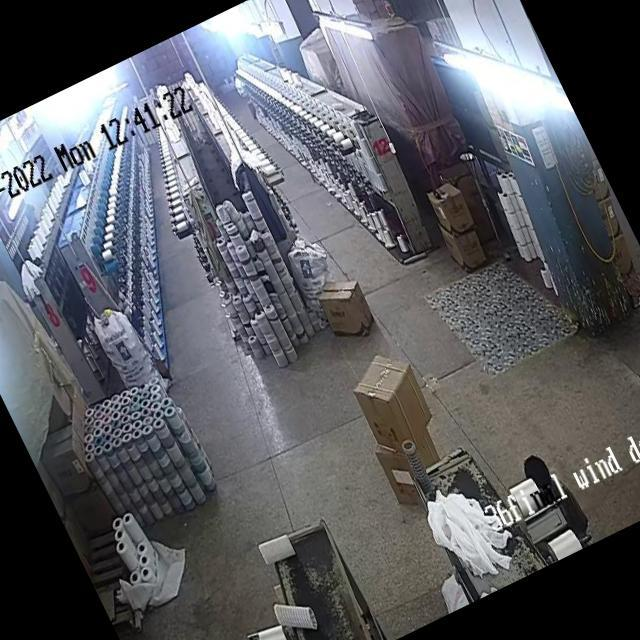person: (515, 448, 582, 532)
